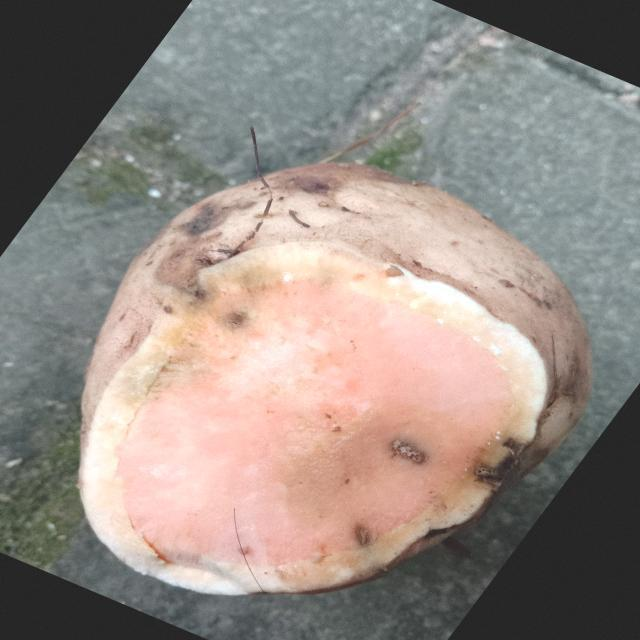Sick Sweet Potato_Tuber Rot: (80, 244, 547, 595)
